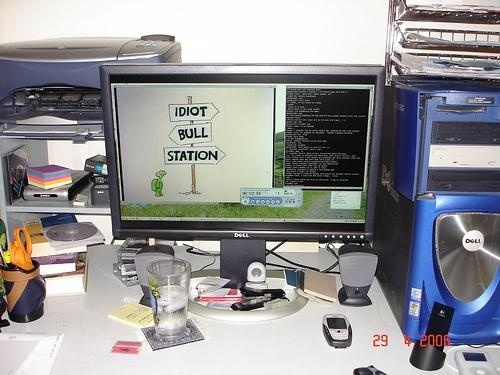tvmonitor: (99, 63, 387, 326)
